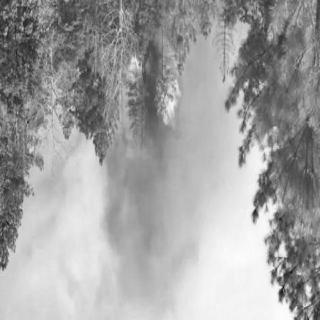Smoke: (67, 151, 209, 311)
